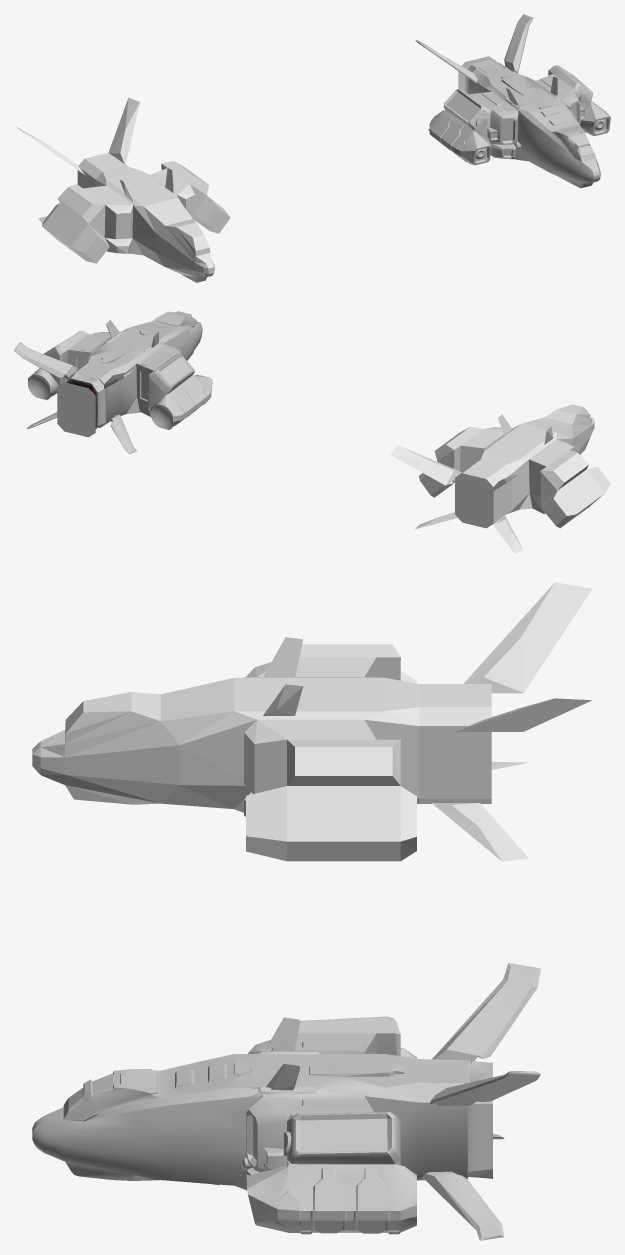
The model's file is bst_attackbomber.dae.
3 renders of one model, top to bottom at view 1: azimuth 30°, elevation 25°; view 2: azimuth 150°, elevation 25°; view 3: azimuth 270°, elevation 25°, orthographic. The views are drawn at different scales.
Parts seen in each view (by area): view 1: COL[Root], MULT[AttackBomber]_LOD[0]; view 2: COL[Root], MULT[AttackBomber]_LOD[0], ETSH[EngineShape1]; view 3: COL[Root], MULT[AttackBomber]_LOD[0].
Part boxes in pixels (x1,y1,x2,y2): COL[Root]: (15,97,230,282); MULT[AttackBomber]_LOD[0]: (415,14,610,188); COL[Root]: (390,404,610,553); MULT[AttackBomber]_LOD[0]: (14,311,212,454); ETSH[EngineShape1]: (57,382,95,437); COL[Root]: (32,582,592,861); MULT[AttackBomber]_LOD[0]: (32,963,540,1240).
Size of the model in its own units: 62.92 by 9.71 by 28.37.
